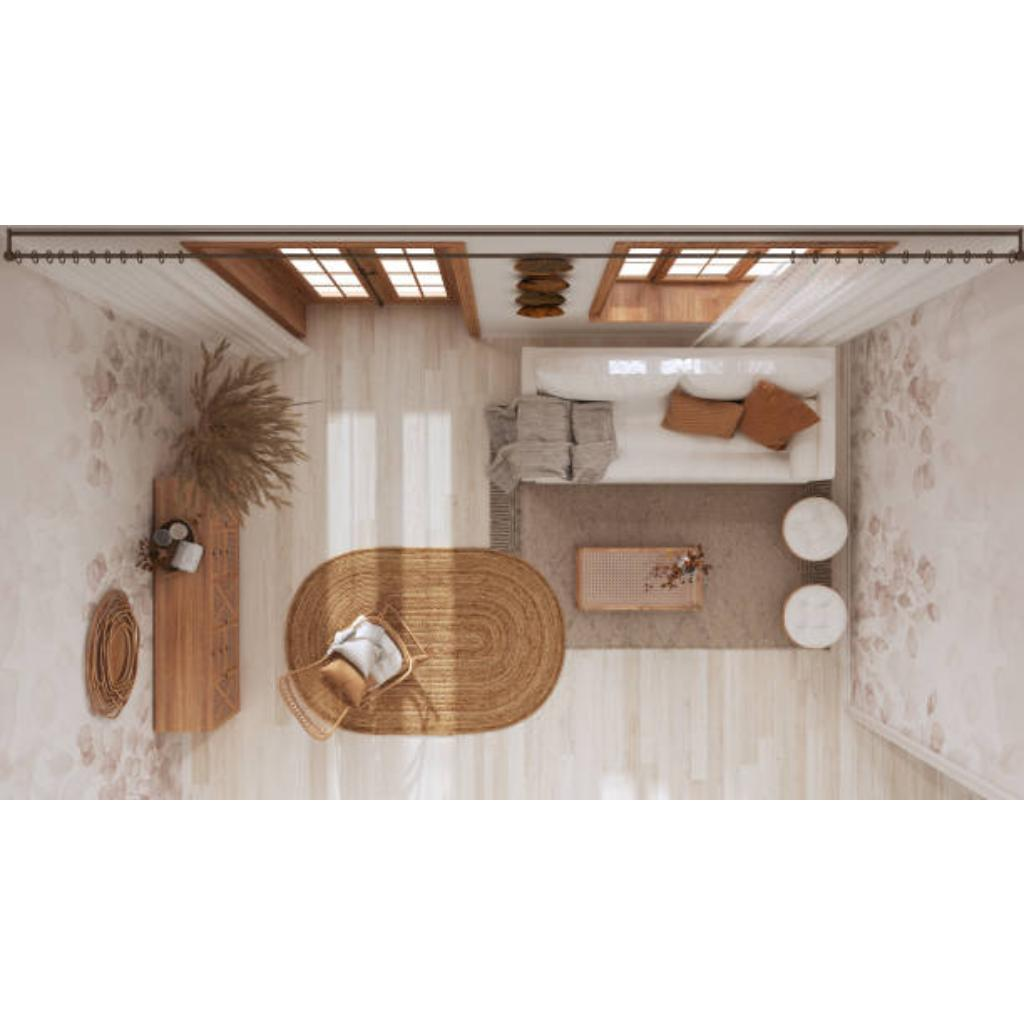coffee table: (578, 546, 704, 610)
floor plant: (196, 414, 248, 468)
ottoman: (782, 584, 848, 648), (784, 496, 846, 558)
rocking chair: (281, 599, 430, 736)
rug: (490, 406, 834, 650), (284, 546, 564, 734)
sideboard: (151, 473, 239, 733)
sofa: (520, 343, 840, 485)
window: (620, 244, 760, 260), (764, 244, 890, 260)
